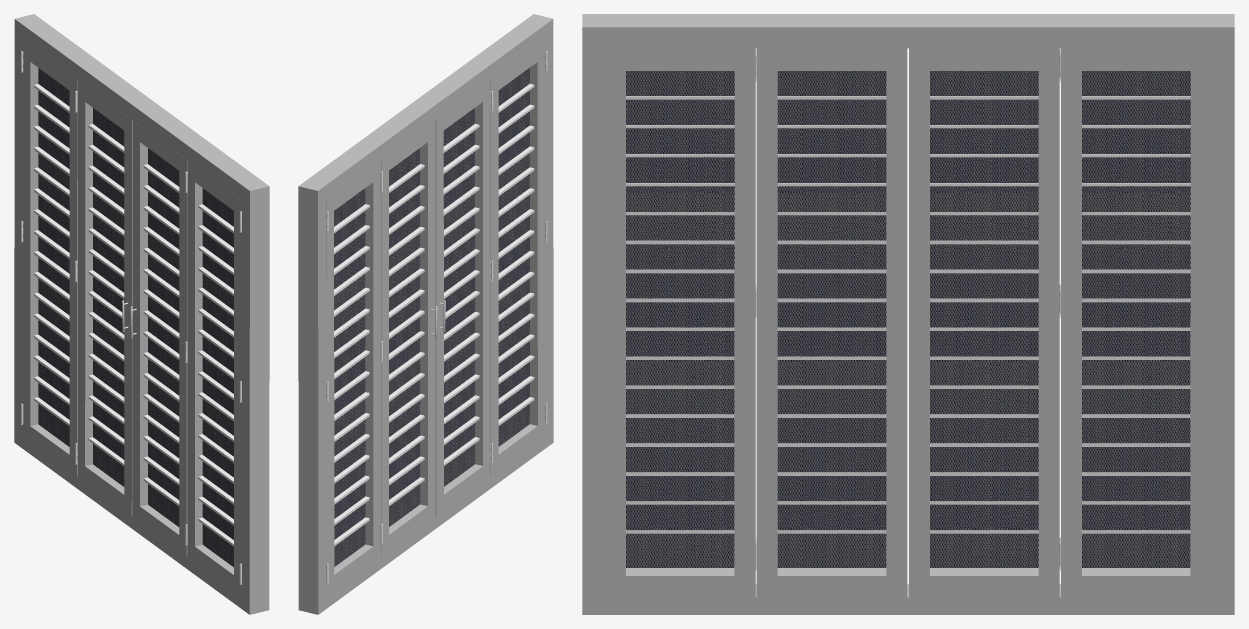
The model's file is SPECIAL .fbx.
3 renders of one model, left to right at view 1: azimuth 30°, elevation 25°; view 2: azimuth 150°, elevation 25°; view 3: azimuth 270°, elevation 25°, orthographic. The views are drawn at different scales.
Parts seen in each view (by area): view 1: pPlane1, polySurface2.007, polySurface3, polySurface4.002, polySurface5.004, polySurface1.008, polySurface1_3, polySurface1_2, polySurface1_1, pCube17_2, pCube17_1, pCube17 (+1 smaller); view 2: pPlane1, polySurface4.002, polySurface5.004, polySurface2.007, polySurface3, polySurface1.008, polySurface1_3, polySurface1_1, polySurface1_2, pCube17_3, pCube17, pCube17_2 (+1 smaller); view 3: pPlane1, polySurface1_2, polySurface1_1, polySurface1.008, polySurface1_3, polySurface4.002, polySurface2.007, polySurface3, polySurface5.004, pCube17_2, pCube17_1, pCube17 (+1 smaller).
Boxes of the visible parts, box(x1,y1,x2,y2) form: pPlane1: box(14, 14, 269, 614); polySurface2.007: box(22, 40, 77, 476); polySurface3: box(77, 80, 132, 517); polySurface4.002: box(132, 120, 187, 557); polySurface5.004: box(187, 160, 241, 597); polySurface1.008: box(38, 68, 69, 446); polySurface1_3: box(202, 188, 233, 567); polySurface1_2: box(148, 148, 179, 526); polySurface1_1: box(93, 108, 124, 486); pCube17_2: box(143, 164, 179, 506); pCube17_1: box(88, 124, 124, 465); pCube17: box(34, 84, 69, 426); pPlane1: box(298, 14, 553, 614); polySurface4.002: box(435, 80, 490, 516); polySurface5.004: box(490, 40, 545, 476); polySurface2.007: box(326, 160, 380, 597); polySurface3: box(381, 120, 435, 557); polySurface1.008: box(334, 188, 365, 566); polySurface1_3: box(498, 67, 529, 446); polySurface1_1: box(389, 148, 420, 526); polySurface1_2: box(443, 108, 475, 486); pCube17_3: box(498, 84, 534, 425); pCube17: box(334, 204, 369, 546); pCube17_2: box(443, 124, 479, 465); pPlane1: box(582, 14, 1234, 614); polySurface1_2: box(777, 71, 886, 567); polySurface1_1: box(930, 71, 1038, 567); polySurface1.008: box(1082, 71, 1190, 567); polySurface1_3: box(626, 71, 734, 567); polySurface4.002: box(756, 48, 907, 599); polySurface2.007: box(1061, 48, 1211, 599); polySurface3: box(909, 48, 1059, 599); polySurface5.004: box(605, 48, 755, 599); pCube17_2: box(777, 96, 886, 533); pCube17_1: box(930, 96, 1038, 533); pCube17: box(1082, 96, 1190, 533).
Bounding box in the file's own units: 18.04 × 284 × 286.
